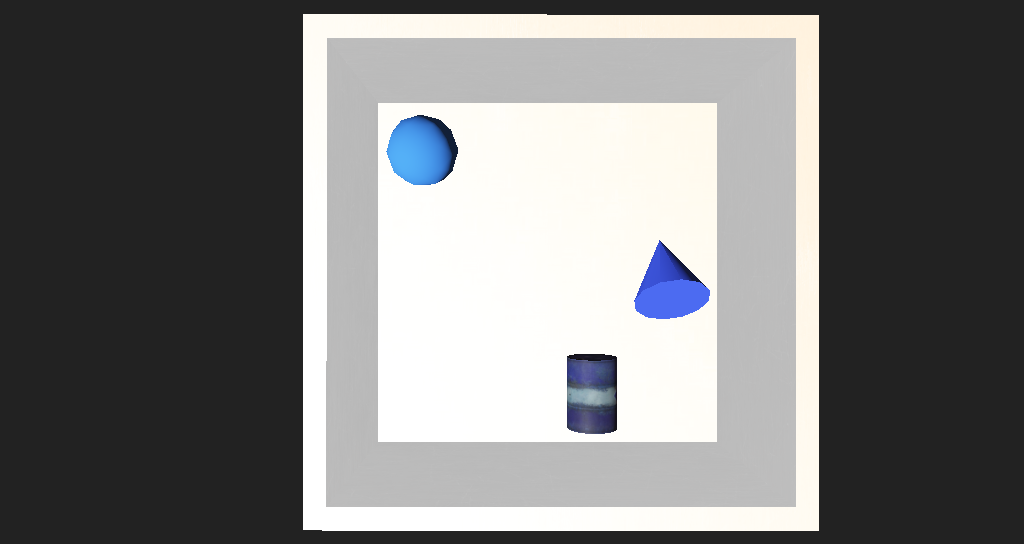cone: (522, 320, 569, 367)
cylinder: (576, 234, 650, 301)
sphere: (367, 167, 428, 215)
